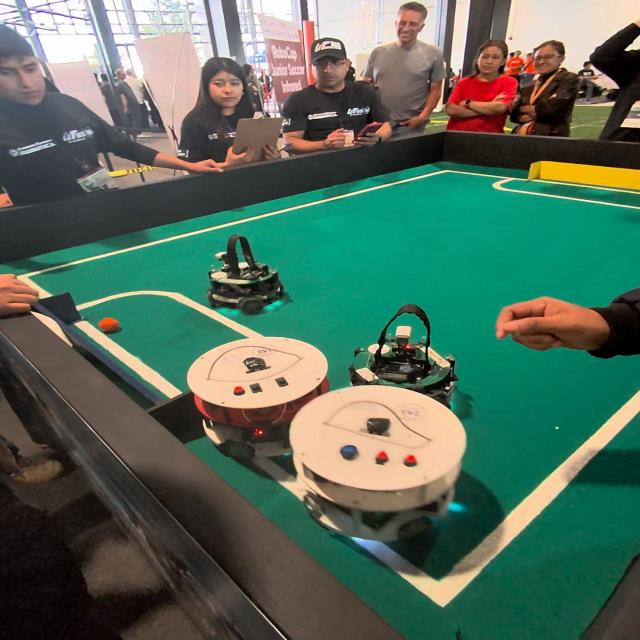Robot: (288, 378, 499, 560), (182, 331, 336, 469), (356, 304, 456, 398), (206, 230, 288, 318)
pelota: (100, 317, 122, 332)
